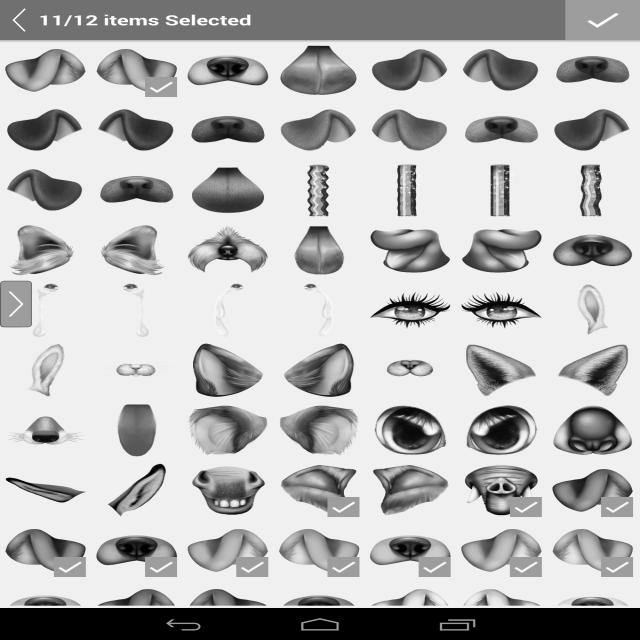Button: (0, 570, 96, 608), (96, 570, 192, 608), (192, 570, 288, 608), (288, 570, 384, 608), (384, 570, 480, 608), (480, 570, 576, 608), (576, 570, 640, 608)
ImageButton: (0, 0, 320, 33), (320, 0, 640, 33), (565, 0, 640, 40)
ImageView: (5, 44, 86, 97), (370, 44, 451, 97), (461, 44, 542, 97), (5, 104, 86, 157), (370, 104, 451, 157), (461, 104, 542, 157), (5, 164, 86, 217), (370, 164, 451, 217), (461, 164, 542, 217), (5, 224, 86, 277), (370, 224, 451, 277), (461, 224, 542, 277), (5, 284, 86, 337), (370, 284, 451, 337), (461, 284, 542, 337), (5, 344, 86, 397), (370, 344, 451, 397), (461, 344, 542, 397), (5, 404, 86, 457), (370, 404, 451, 457), (461, 404, 542, 457), (5, 464, 86, 517), (370, 464, 451, 517), (461, 464, 542, 517), (5, 524, 86, 577), (370, 524, 451, 577), (461, 524, 542, 577), (5, 584, 86, 637), (370, 584, 451, 637), (461, 584, 542, 637), (97, 44, 177, 97), (188, 44, 268, 97), (279, 44, 359, 97), (553, 44, 633, 97), (97, 104, 177, 157), (188, 104, 268, 157), (279, 104, 359, 157), (553, 104, 633, 157), (97, 164, 177, 217), (188, 164, 268, 217), (279, 164, 359, 217), (553, 164, 633, 217), (97, 224, 177, 277), (188, 224, 268, 277), (279, 224, 359, 277), (553, 224, 633, 277), (97, 284, 177, 337), (188, 284, 268, 337), (279, 284, 359, 337), (553, 284, 633, 337), (97, 344, 177, 397), (188, 344, 268, 397), (279, 344, 359, 397), (553, 344, 633, 397), (97, 404, 177, 457), (188, 404, 268, 457), (279, 404, 359, 457), (553, 404, 633, 457), (97, 464, 177, 517), (188, 464, 268, 517), (279, 464, 359, 517), (553, 464, 633, 517), (97, 524, 177, 577), (188, 524, 268, 577), (279, 524, 359, 577), (553, 524, 633, 577), (97, 584, 177, 637), (188, 584, 268, 637), (279, 584, 359, 637), (553, 584, 633, 637), (0, 281, 32, 327), (418, 557, 451, 577), (145, 77, 177, 97), (510, 497, 542, 517), (601, 497, 633, 517), (54, 557, 86, 577), (145, 557, 177, 577), (236, 557, 268, 577), (328, 557, 360, 577), (510, 557, 542, 577), (601, 557, 633, 577)
SeekBar: (55, 526, 629, 547)
TextView: (0, 0, 252, 40), (11, 530, 55, 543)
